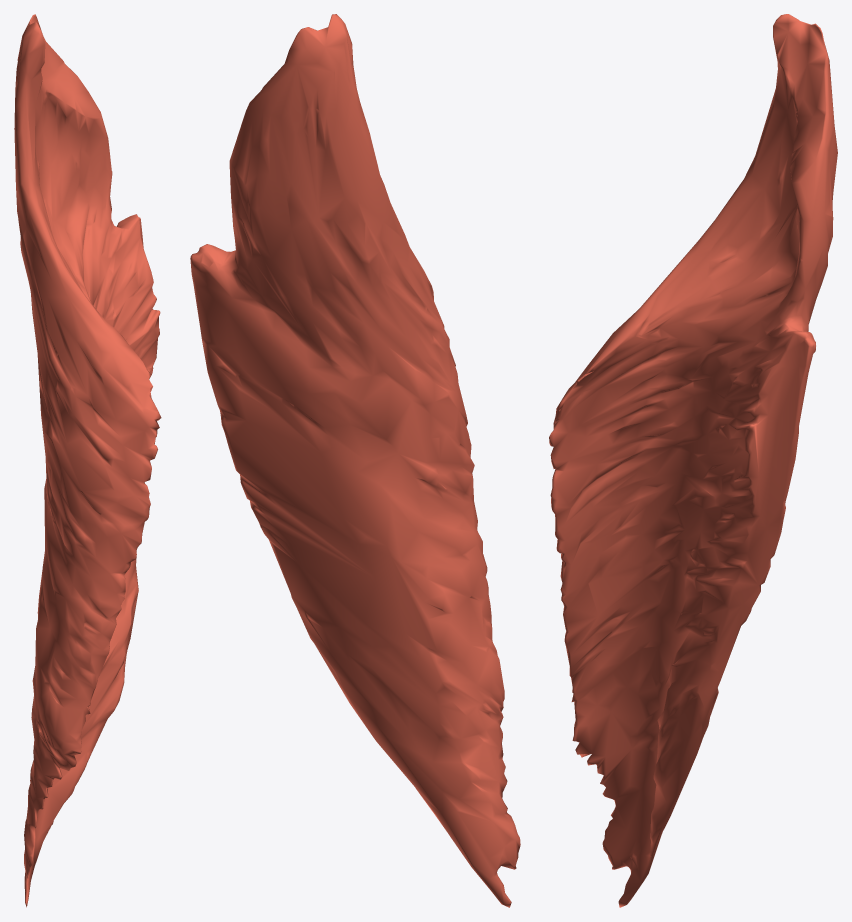
Rendered from supinator.glb.
The picture shows the model from 3 angles, left to right: view 1: azimuth 30°, elevation 25°; view 2: azimuth 150°, elevation 25°; view 3: azimuth 270°, elevation 25°; orthographic projection. The views are drawn at different scales.
Parts seen in each view (by area): view 1: Supinator.r; view 2: Supinator.r; view 3: Supinator.r.
Boxes of the visible parts, left/top/right/bottom form: Supinator.r: left=14, top=14, right=161, bottom=907; Supinator.r: left=190, top=14, right=520, bottom=907; Supinator.r: left=549, top=14, right=837, bottom=907.
Bounding box in the file's own units: 0.0329 × 0.1279 × 0.0356.
